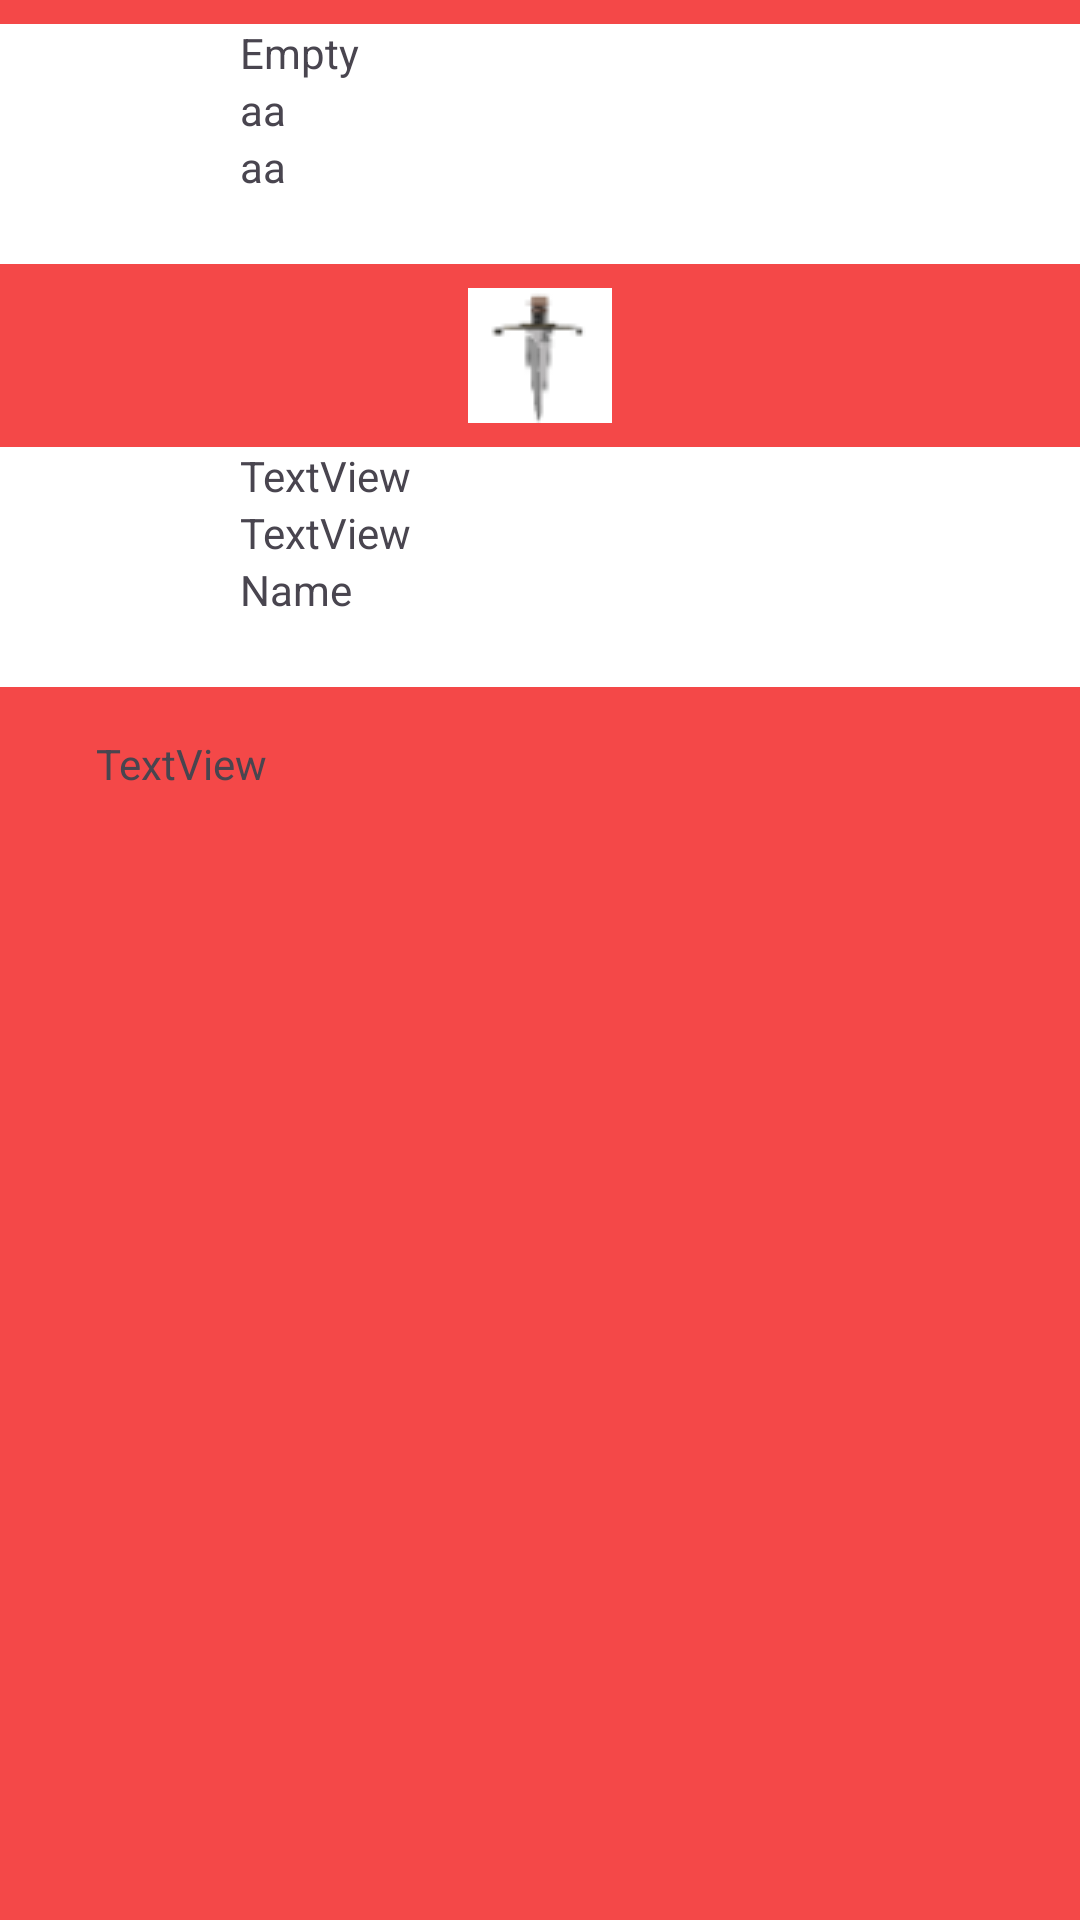

Icon click points for this 1080×1920 phone screenshot, format (x,y):
attac: (540,355)
